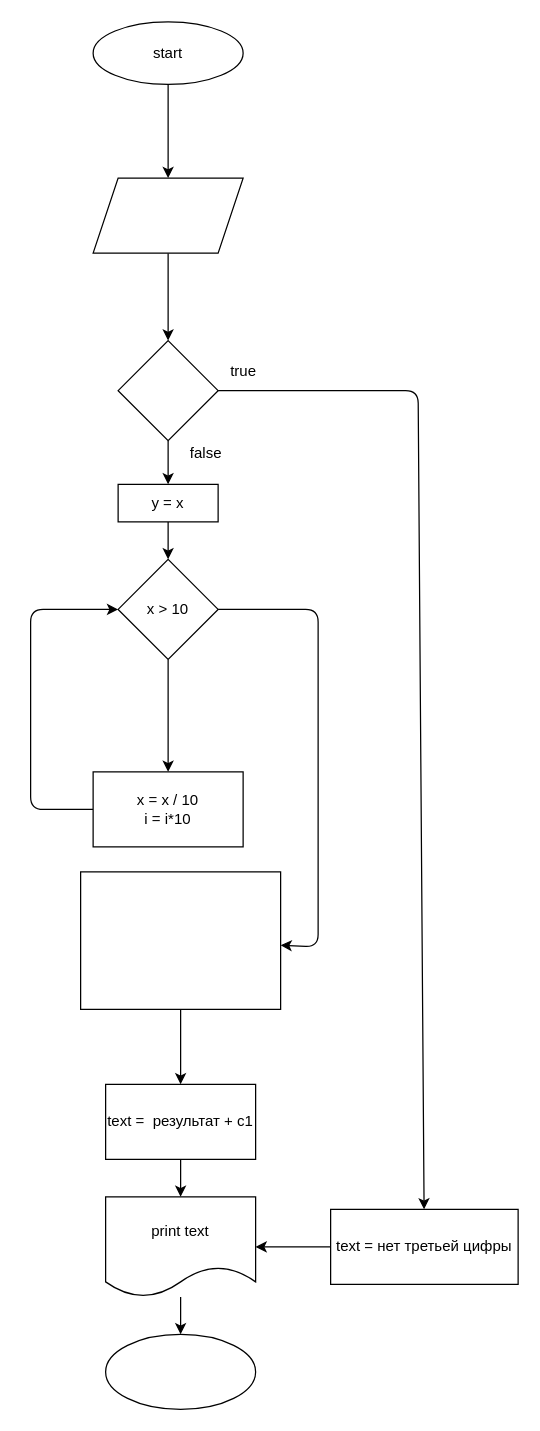
Image size: 540x1431. Some labels were removed from this diagram. Here are the shapes that lost their labels. From the top down, the centre of each, then its label:
At pixel 167 215: "int x int i = 1 int y".
At pixel 167 390: "x < 99".
At pixel 180 940: "a = (y/ i ) b = (y - a*i) b1 = (b/(i/10)) c = (b - b1 *i/10) c1 = c/(i/100)".
At pixel 180 1371: "End".
